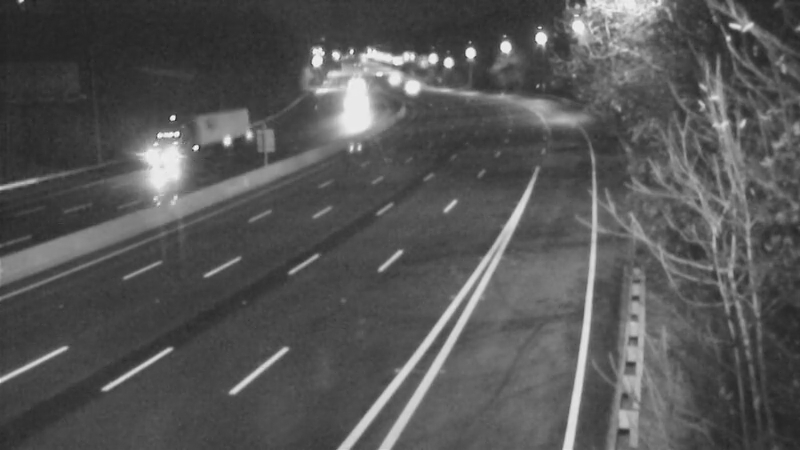vehicle: (170, 113, 250, 193), (385, 61, 435, 111), (365, 49, 415, 99), (332, 95, 382, 145)
